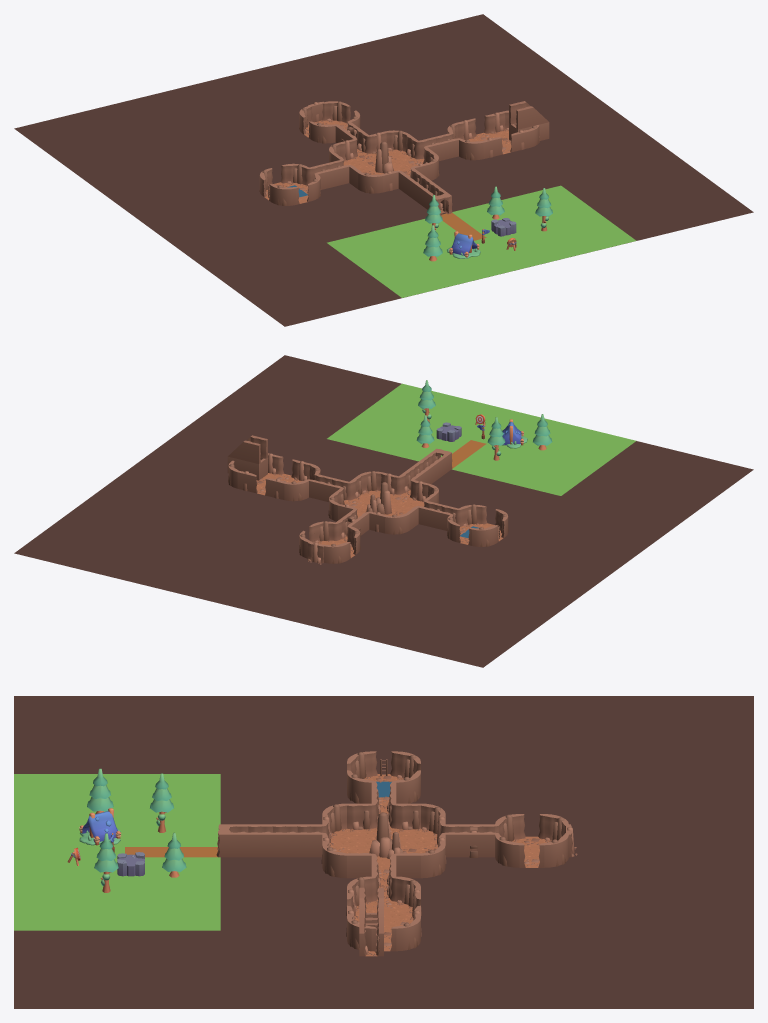
File: PlatosCave.glb
3 views of the same model, one above another, from view 1: azimuth 30°, elevation 25°; view 2: azimuth 150°, elevation 25°; view 3: azimuth 270°, elevation 25° (orthographic). The views are drawn at different scales.
Visible parts, largest first — view 1: bedrock, daylight-grass, fire-hall, shadow-gallery, echo-chamber, prisoners-cell, gallery-stairs; view 2: bedrock, daylight-grass, fire-hall, shadow-gallery, echo-chamber, prisoners-cell, gallery-stairs; view 3: bedrock, daylight-grass, fire-hall, shadow-gallery, corridor (×5), prisoners-cell, echo-chamber, tree (×2), gallery-stairs, tent, dirt-path, cave-mouth (+4 smaller).
Part boxes in pixels (<box>): bedrock: <box>14,14,753,326</box>; daylight-grass: <box>327,185,636,297</box>; fire-hall: <box>329,130,439,193</box>; shadow-gallery: <box>447,110,539,160</box>; echo-chamber: <box>259,163,320,205</box>; prisoners-cell: <box>299,101,360,143</box>; gallery-stairs: <box>509,101,549,140</box>; bedrock: <box>14,355,753,667</box>; daylight-grass: <box>327,383,636,495</box>; fire-hall: <box>328,471,439,534</box>; shadow-gallery: <box>228,453,320,501</box>; echo-chamber: <box>447,504,508,547</box>; prisoners-cell: <box>299,521,360,563</box>; gallery-stairs: <box>227,435,267,480</box>; bedrock: <box>14,696,753,1008</box>; daylight-grass: <box>14,774,220,930</box>; fire-hall: <box>321,803,446,878</box>; shadow-gallery: <box>346,876,421,951</box>; corridor (×5): <box>248,824,494,857</box>; prisoners-cell: <box>495,814,568,867</box>; echo-chamber: <box>347,751,420,805</box>; tree (×2): <box>87,768,186,877</box>; gallery-stairs: <box>359,887,383,956</box>; tent: <box>79,808,121,845</box>; dirt-path: <box>125,847,217,857</box>; cave-mouth: <box>223,824,248,857</box>.
Bounding box in the file's own units: 120 × 10.33 × 120.
6 materials, 2 textured.
